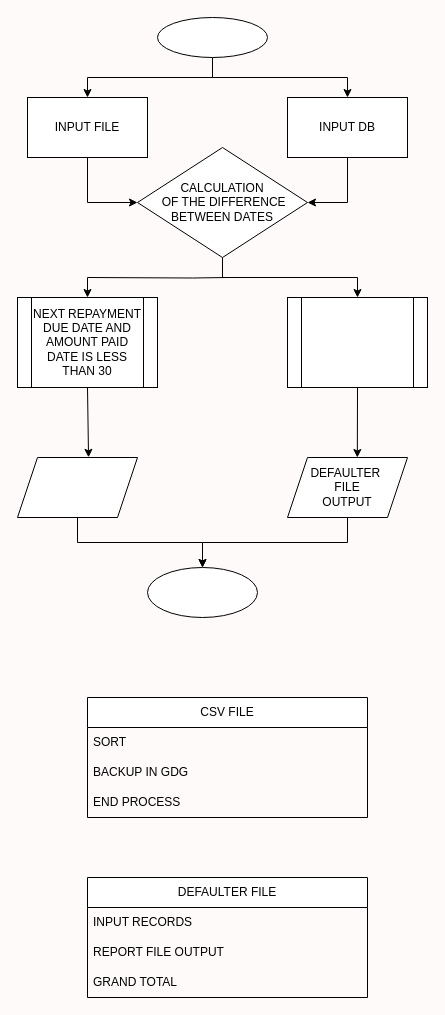
This 445x1015 diagram has some shape labels left out. Each missing label, with the centre of its shape:
"CSV FILE OUTPUT" goes at (x=77, y=487).
"NEXT REPAYMENT DUE DATE AND AMOUNT PAID DATE IS MORE THAN 30" goes at (x=357, y=342).
"START" goes at (x=212, y=37).
"STOP RUN" goes at (x=202, y=592).
